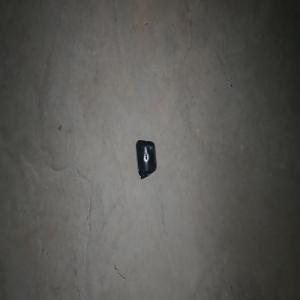LuggagePart: (135, 139, 157, 179)
